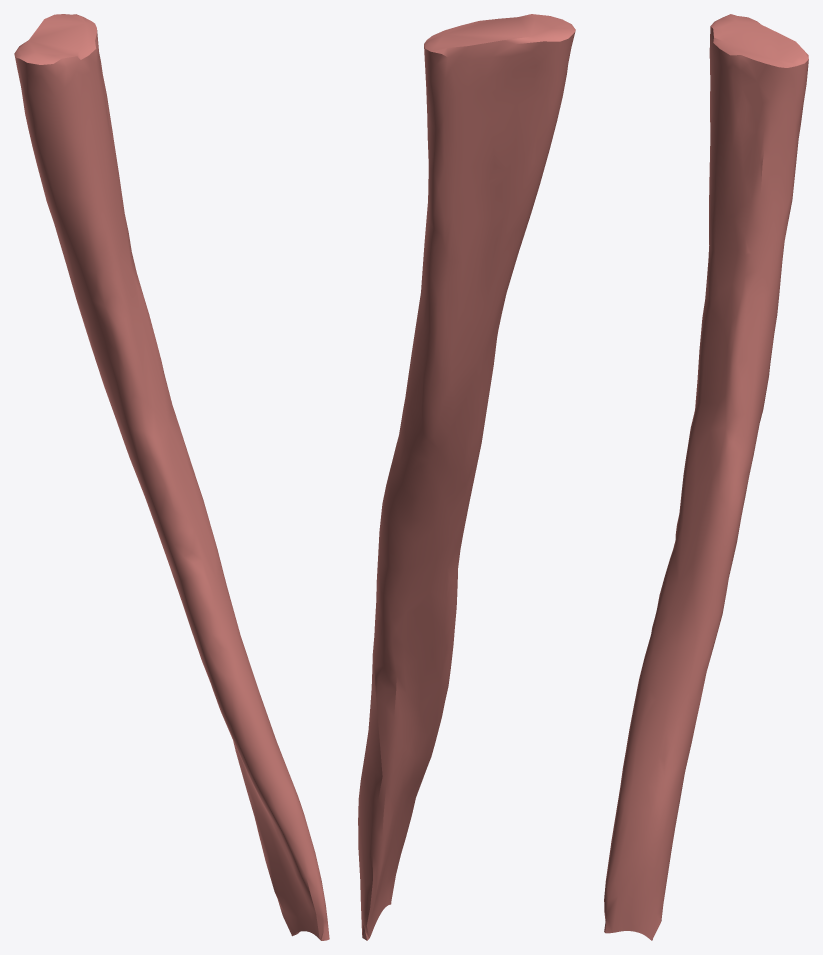
File: fma40695-f_mm2015m.glb
3 renders of one model, left to right at view 1: azimuth 30°, elevation 25°; view 2: azimuth 150°, elevation 25°; view 3: azimuth 270°, elevation 25°, orthographic. The views are drawn at different scales.
Visible parts, largest first — view 1: FMA40695-F_MM2015M; view 2: FMA40695-F_MM2015M; view 3: FMA40695-F_MM2015M.
Boxes of the visible parts, <box> form: FMA40695-F_MM2015M: <box>14,14,329,940</box>; FMA40695-F_MM2015M: <box>358,14,575,940</box>; FMA40695-F_MM2015M: <box>604,14,808,940</box>.
Size of the model in its own units: 0.028 by 0.0999 by 0.0225.
